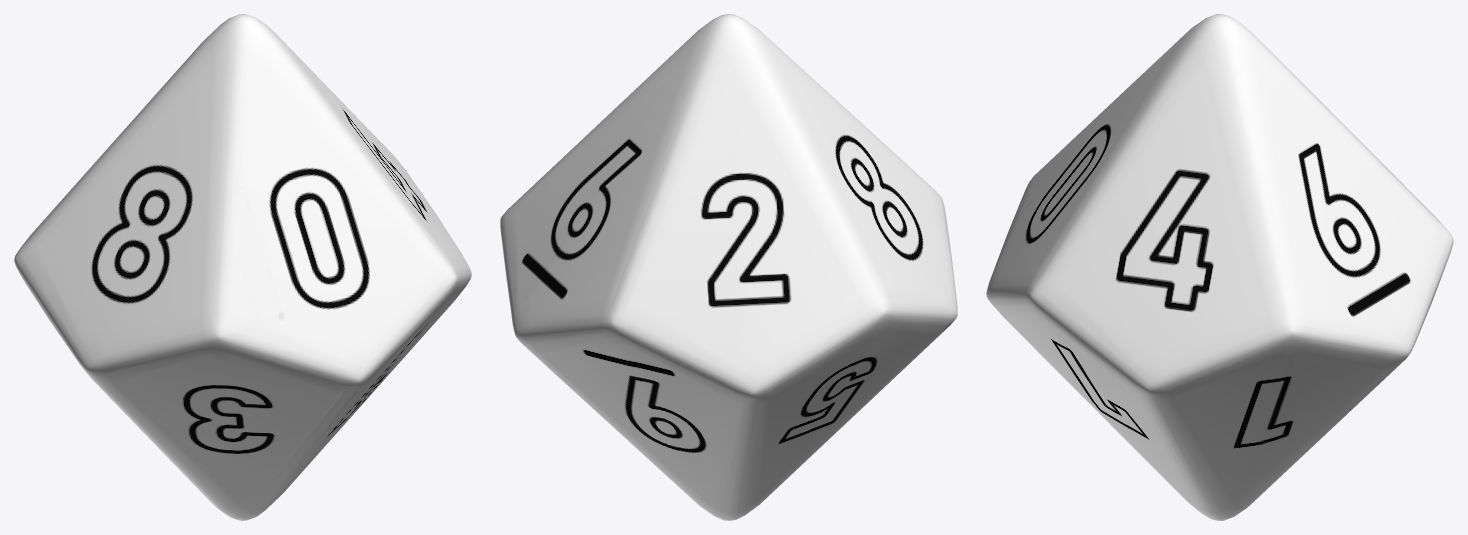
3 views of the same model, side by side, from view 1: azimuth 30°, elevation 25°; view 2: azimuth 150°, elevation 25°; view 3: azimuth 270°, elevation 25° (orthographic).
Visible parts, largest first — view 1: Cone; view 2: Cone; view 3: Cone.
Boxes of the visible parts, x1=… form: Cone: x1=14, y1=14, x2=471, y2=520; Cone: x1=500, y1=14, x2=957, y2=520; Cone: x1=986, y1=14, x2=1453, y2=520.
Size of the model in its own units: 1.63 by 2.02 by 1.7.
Materials: 1 (1 with a texture image).
